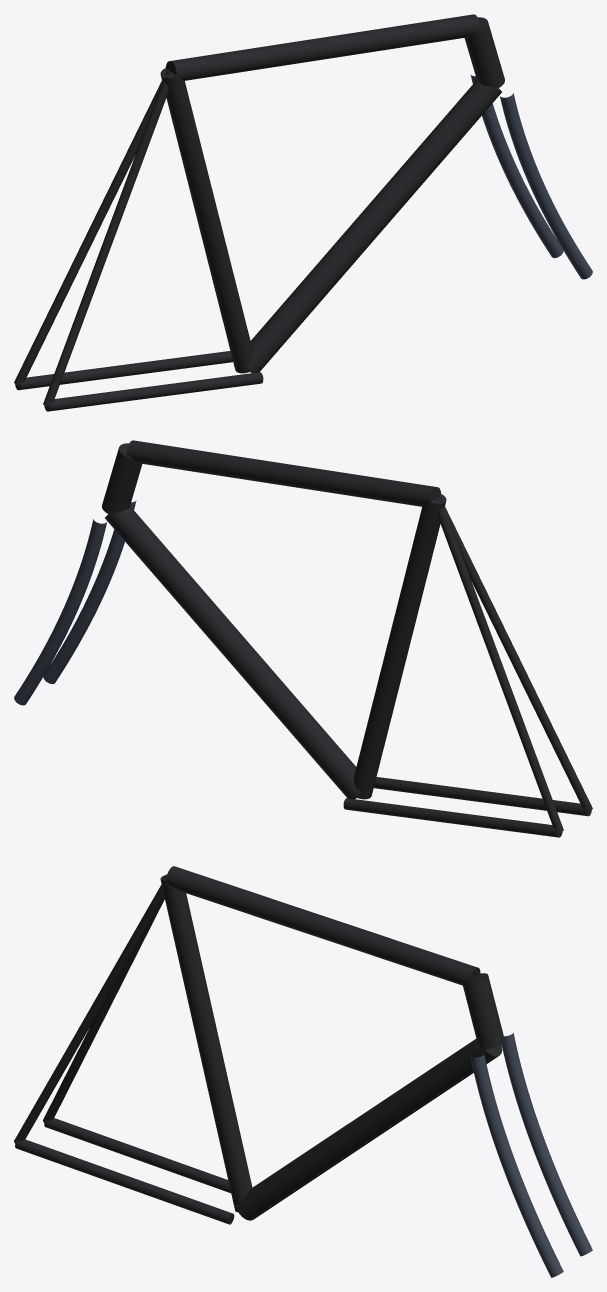
The model's file is dosnoventa-03-det-m.glb.
3 renders of one model, top to bottom at view 1: azimuth 30°, elevation 25°; view 2: azimuth 150°, elevation 25°; view 3: azimuth 330°, elevation 25°, orthographic.
Parts seen in each view (by area): view 1: paint_down, paint_top, paint_seat, paint_seatstay_0.045, paint_seatstay_-0.045, fork_0.045, paint_chainstay_0.045, paint_chainstay_-0.045, fork_-0.045, paint_head; view 2: paint_down, paint_top, paint_seat, paint_seatstay_-0.045, paint_seatstay_0.045, fork_-0.045, paint_chainstay_-0.045, paint_chainstay_0.045, fork_0.045, paint_head; view 3: paint_down, paint_seat, paint_top, fork_0.045, fork_-0.045, paint_chainstay_0.045, paint_seatstay_0.045, paint_chainstay_-0.045, paint_head, paint_seatstay_-0.045.
Boxes of the visible parts, left/top/right/bottom form: paint_down: left=246, top=80, right=501, bottom=372; paint_top: left=165, top=14, right=480, bottom=80; paint_seat: left=160, top=68, right=252, bottom=373; paint_seatstay_0.045: left=43, top=71, right=173, bottom=406; paint_seatstay_-0.045: left=14, top=69, right=170, bottom=386; fork_0.045: left=500, top=93, right=592, bottom=279; paint_chainstay_0.045: left=44, top=372, right=263, bottom=411; paint_chainstay_-0.045: left=15, top=351, right=232, bottom=390; fork_-0.045: left=470, top=74, right=563, bottom=258; paint_head: left=464, top=17, right=504, bottom=87; paint_down: left=105, top=506, right=360, bottom=798; paint_top: left=126, top=440, right=441, bottom=506; paint_seat: left=354, top=494, right=446, bottom=799; paint_seatstay_-0.045: left=433, top=497, right=563, bottom=832; paint_seatstay_0.045: left=436, top=495, right=592, bottom=812; fork_-0.045: left=14, top=519, right=106, bottom=705; paint_chainstay_-0.045: left=343, top=798, right=562, bottom=837; paint_chainstay_0.045: left=374, top=777, right=591, bottom=816; fork_0.045: left=43, top=500, right=136, bottom=684; paint_head: left=102, top=443, right=142, bottom=513; paint_down: left=235, top=1039, right=502, bottom=1220; paint_seat: left=160, top=874, right=252, bottom=1212; paint_top: left=165, top=866, right=480, bottom=985; fork_0.045: left=470, top=1054, right=563, bottom=1277; fork_-0.045: left=501, top=1033, right=592, bottom=1256; paint_chainstay_0.045: left=15, top=1139, right=234, bottom=1224; paint_seatstay_0.045: left=14, top=875, right=166, bottom=1143; paint_chainstay_-0.045: left=44, top=1118, right=230, bottom=1193; paint_head: left=462, top=973, right=504, bottom=1049; paint_seatstay_-0.045: left=43, top=897, right=164, bottom=1122.
Size of the model in its own units: 0.9764 by 0.5664 by 0.112.
